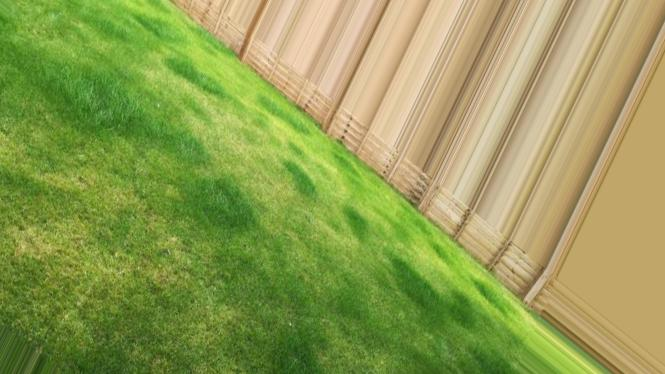patch: (192, 87, 244, 122), (229, 133, 267, 175), (297, 161, 343, 188), (252, 196, 288, 226), (318, 221, 336, 243)
